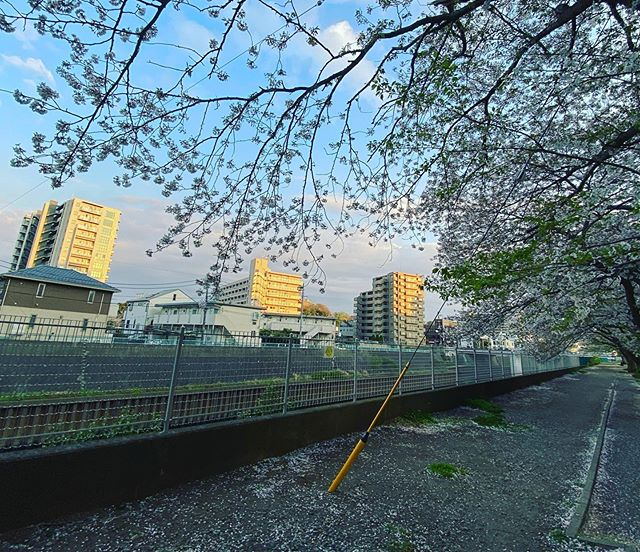building: (12, 191, 129, 294), (1, 268, 127, 343), (129, 284, 264, 350), (215, 258, 311, 327), (354, 265, 424, 354)
sky: (1, 1, 444, 275)
tree: (63, 4, 640, 256)
